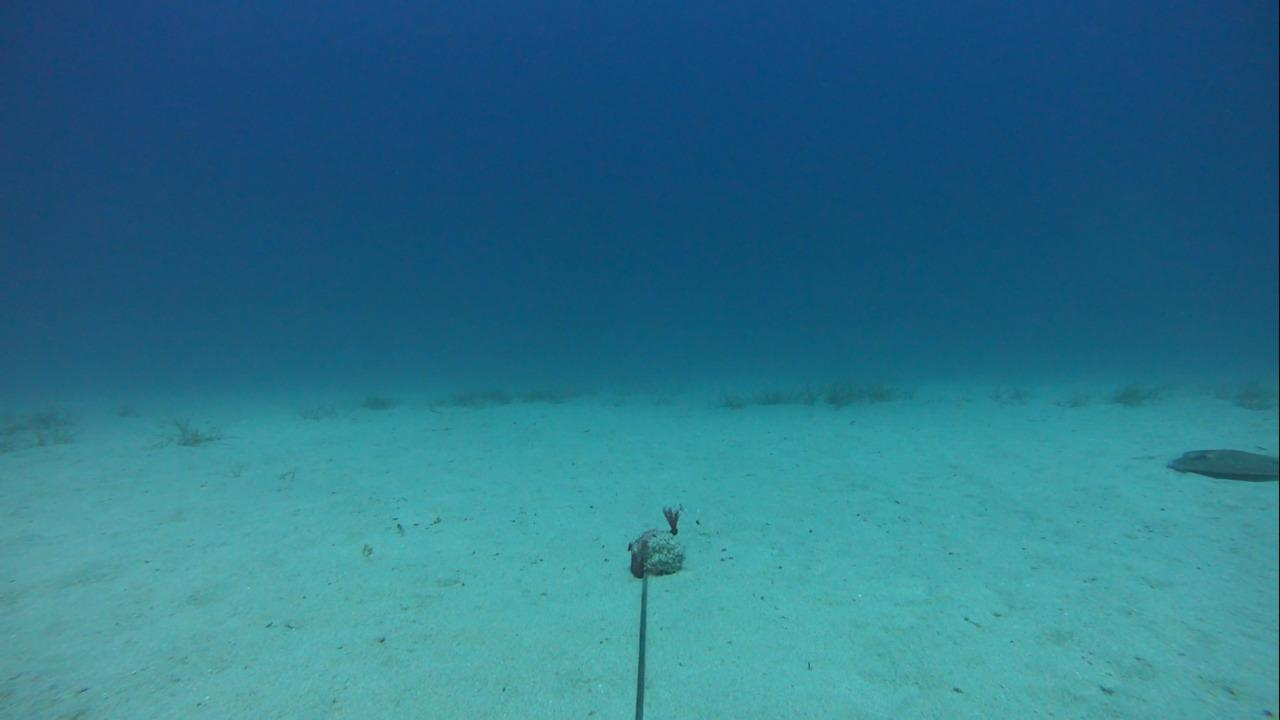myliobatis: (1155, 443, 1279, 488)
